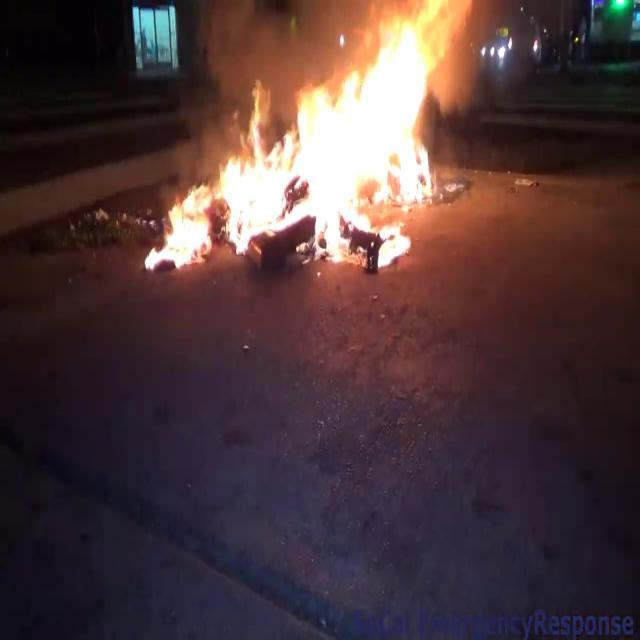Fire: (146, 2, 463, 266)
